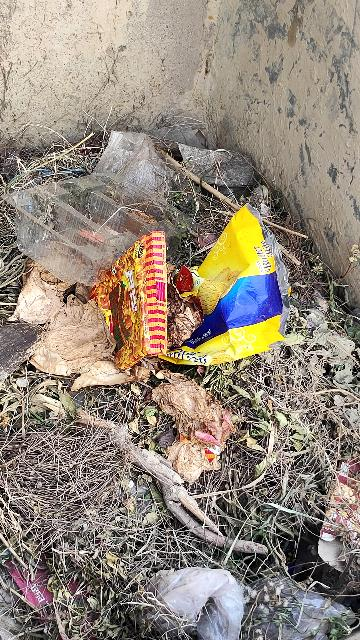packet: (94, 209, 286, 371)
